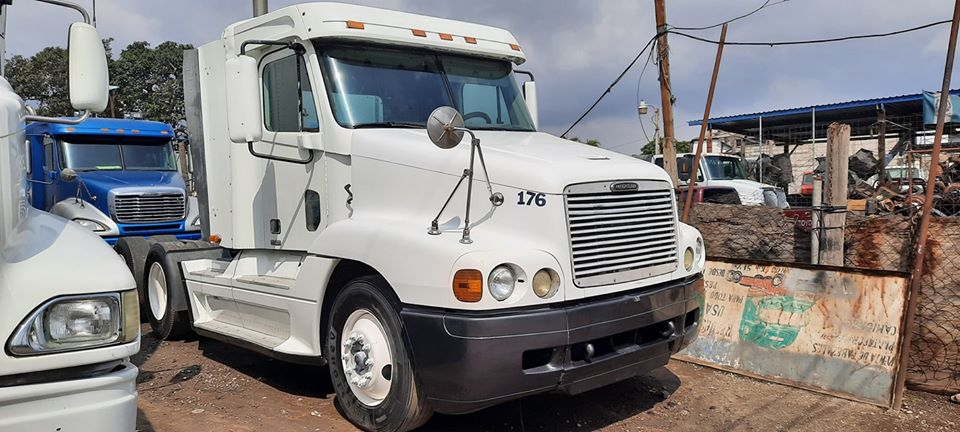camion: (124, 1, 711, 417)
